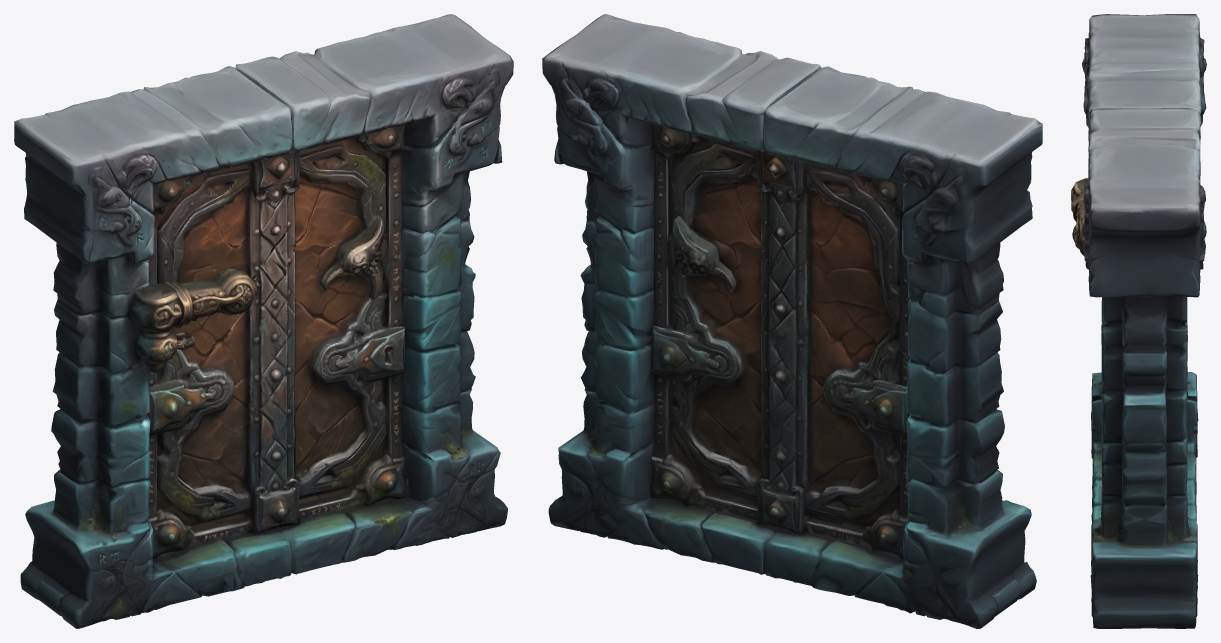
Rendered from drzwi.glb.
3 views of the same model, side by side, from view 1: azimuth 30°, elevation 25°; view 2: azimuth 150°, elevation 25°; view 3: azimuth 270°, elevation 25° (orthographic). The views are drawn at different scales.
Visible parts, largest first — view 1: tripo_node_7ecb951f-dee6-4bba-acff-8a22b94fb500; view 2: tripo_node_7ecb951f-dee6-4bba-acff-8a22b94fb500; view 3: tripo_node_7ecb951f-dee6-4bba-acff-8a22b94fb500.
Part boxes in pixels (left/top/right/bottom): tripo_node_7ecb951f-dee6-4bba-acff-8a22b94fb500: left=14, top=14, right=513, bottom=628; tripo_node_7ecb951f-dee6-4bba-acff-8a22b94fb500: left=542, top=14, right=1042, bottom=628; tripo_node_7ecb951f-dee6-4bba-acff-8a22b94fb500: left=1071, top=14, right=1206, bottom=628.
Bounding box in the file's own units: 0.9575 × 0.9784 × 0.2816.
Materials: 1 (1 with a texture image).
